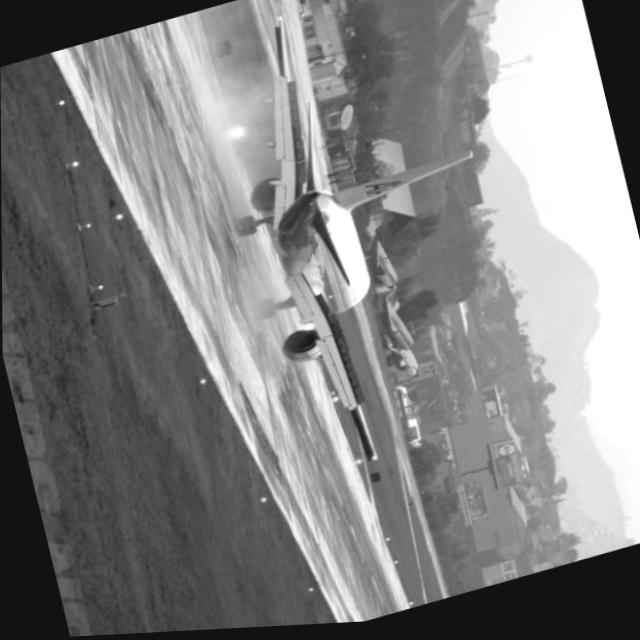aeroplane: (187, 0, 534, 489)
